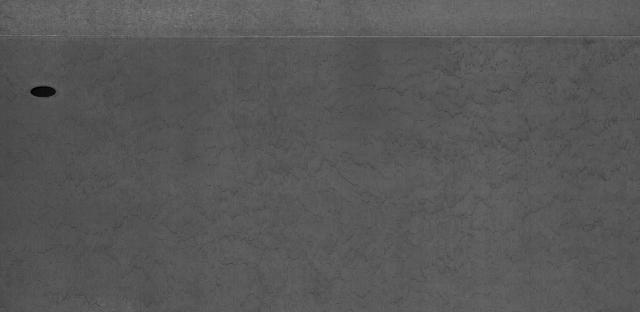punching_hole: (25, 79, 61, 102)
silk_spot: (83, 61, 627, 301)
